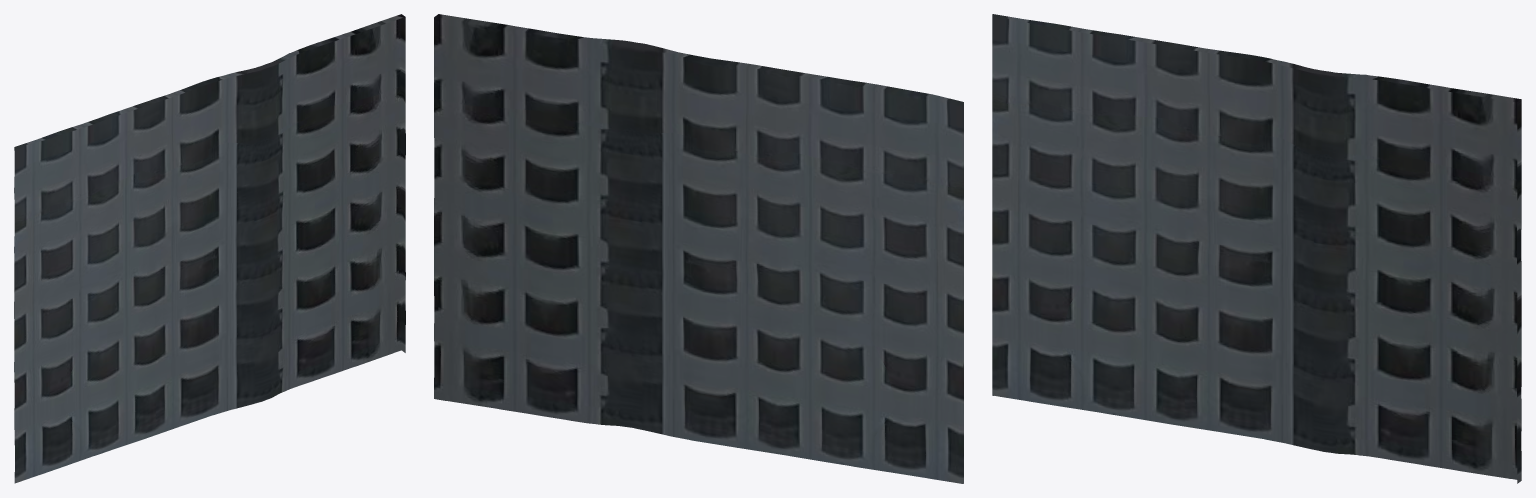
Rendered from z20-167764-405239-h1-yup-uvflip-v3-world.glb.
The picture shows the model from 3 angles, left to right: view 1: azimuth 30°, elevation 25°; view 2: azimuth 150°, elevation 25°; view 3: azimuth 330°, elevation 25°; orthographic projection. The views are drawn at different scales.
Bounding box in the file's own units: 30.16 × 22.72 × 4.92.
1 material, 1 textured.
